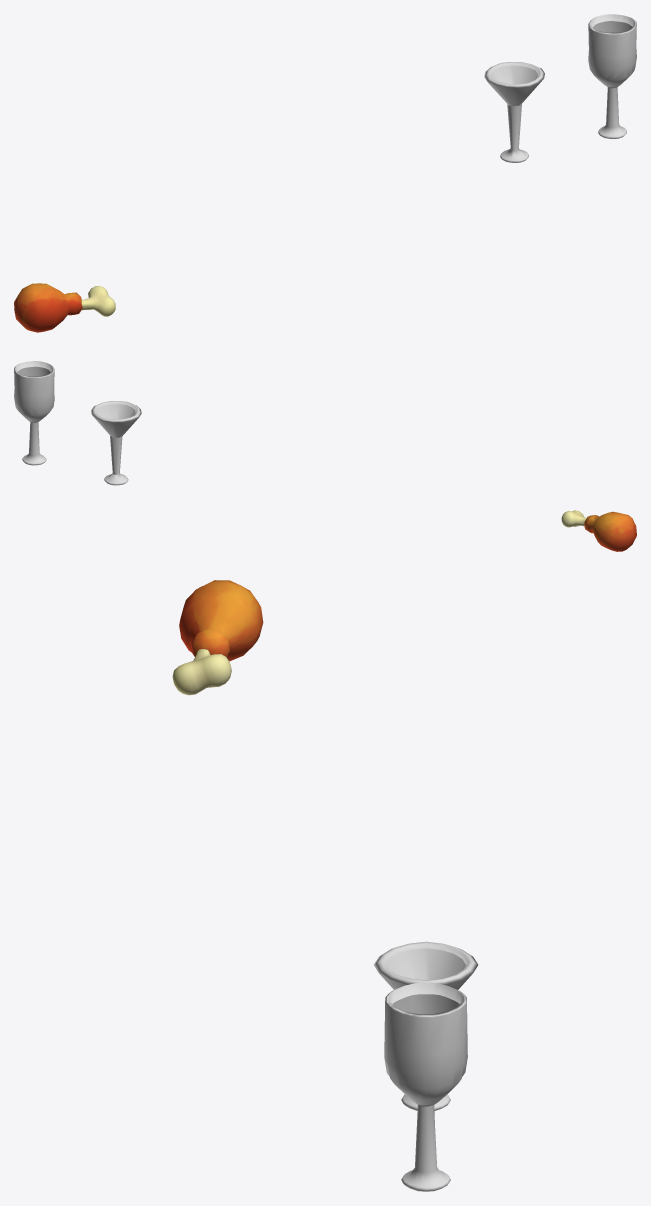
The model's file is chicken.fbx.
3 renders of one model, top to bottom at view 1: azimuth 30°, elevation 25°; view 2: azimuth 150°, elevation 25°; view 3: azimuth 270°, elevation 25°, orthographic. The views are drawn at different scales.
Visible parts, largest first — view 1: Coctail_2, ChickenLeg, Coctail_3; view 2: Coctail_2, ChickenLeg, Coctail_3; view 3: Coctail_2, ChickenLeg, Coctail_3.
Part boxes in pixels (x1,y1,x2,y2): Coctail_2: (588,14,636,139); ChickenLeg: (14,283,115,332); Coctail_3: (484,62,544,162); Coctail_2: (14,361,54,465); ChickenLeg: (561,510,636,551); Coctail_3: (91,401,141,485); Coctail_2: (384,982,467,1191); ChickenLeg: (172,580,263,695); Coctail_3: (374,941,478,1110).
Bounding box in the file's own units: 1377 × 216 × 322.
Materials: 2 (1 with a texture image).
